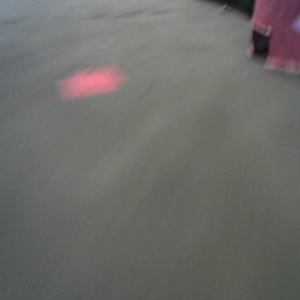Right: (246, 1, 300, 74)
